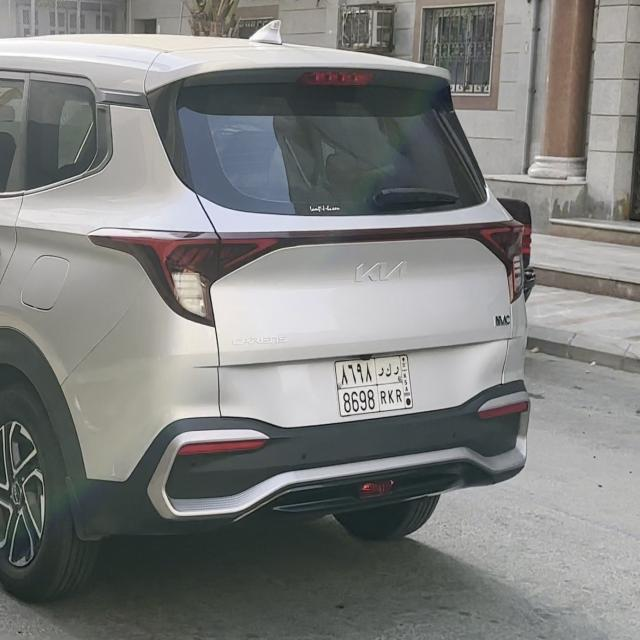Car-plate: (330, 346, 417, 423)
